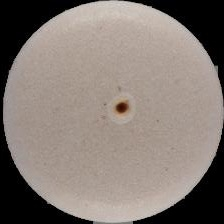0781-5988: (0, 0, 224, 224)
